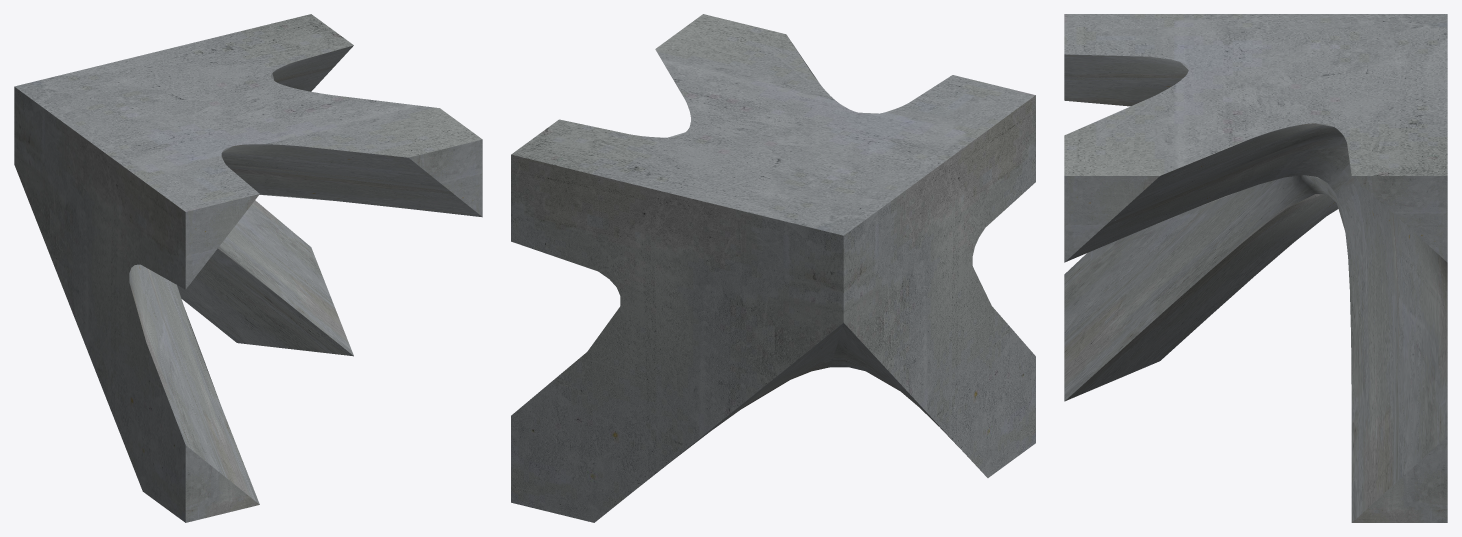
File: module_S4.fbx
3 renders of one model, left to right at view 1: azimuth 30°, elevation 25°; view 2: azimuth 150°, elevation 25°; view 3: azimuth 270°, elevation 25°, orthographic. The views are drawn at different scales.
Visible parts, largest first — view 1: modules; view 2: modules; view 3: modules.
Boxes of the visible parts, <box> form: modules: <box>14,14,482,522</box>; modules: <box>511,14,1035,522</box>; modules: <box>1064,14,1447,522</box>.
Size of the model in its own units: 1000 by 1000 by 1000.
1 material, 1 textured.
